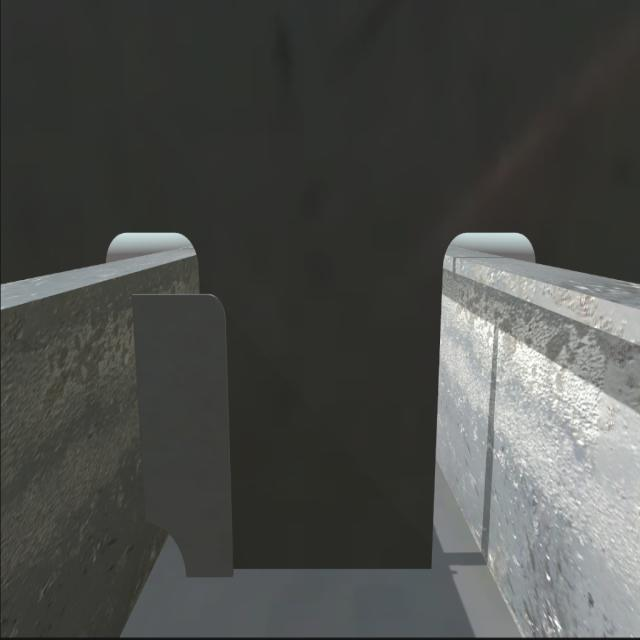fillet_hole: (144, 520, 186, 582)
fillet_yong_jeop_jang: (202, 556, 434, 586)
longi_yong_jeop_jang: (126, 290, 152, 529)
plate_CP05: (130, 292, 234, 578)
